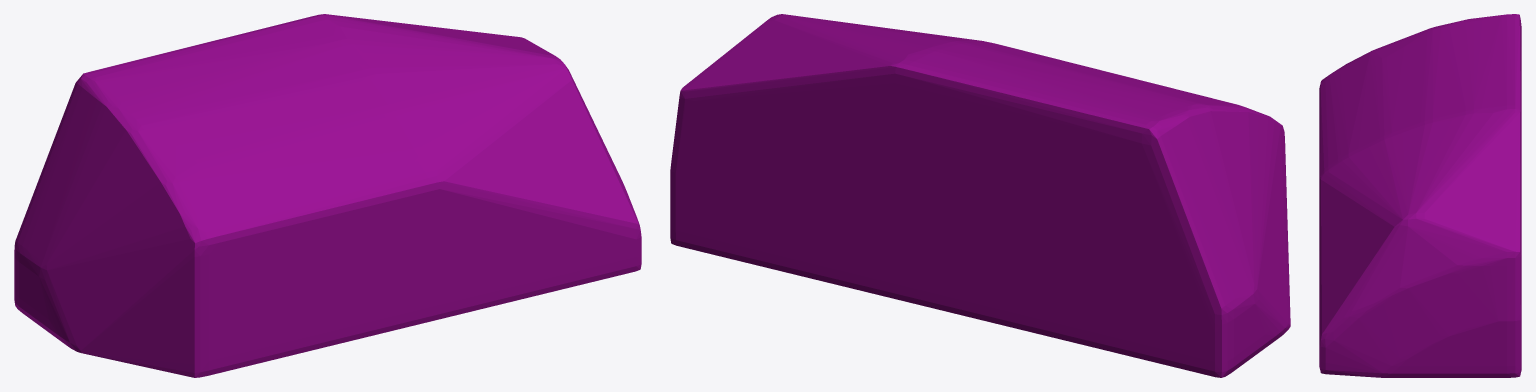
The model's file is left_shoulder_pitch_link_part_14.obj.
3 renders of one model, left to right at view 1: azimuth 30°, elevation 25°; view 2: azimuth 150°, elevation 25°; view 3: azimuth 270°, elevation 25°, orthographic. The views are drawn at different scales.
Bounding box in the file's own units: 0.0673 × 0.0273 × 0.0271.
